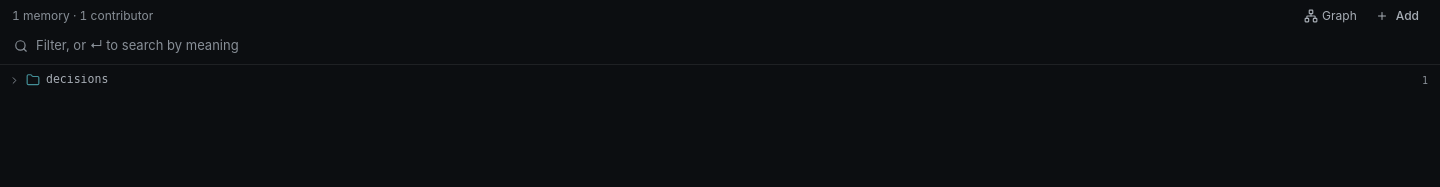
Test: <MemoryPanel /> preview hovercard › opens a preview of the memory body after the hover delay
Click the button "decisions". click: [77, 79]
box: [26,73,1416,87]
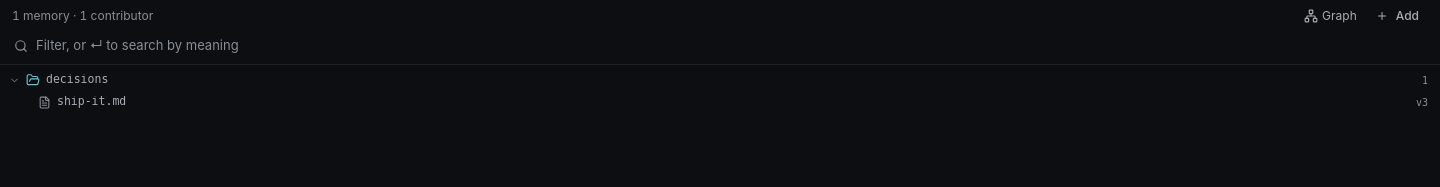
Hover over the text "ship-it.md" at [733, 102], box [38,96,1428,108]
Wait 400 ms
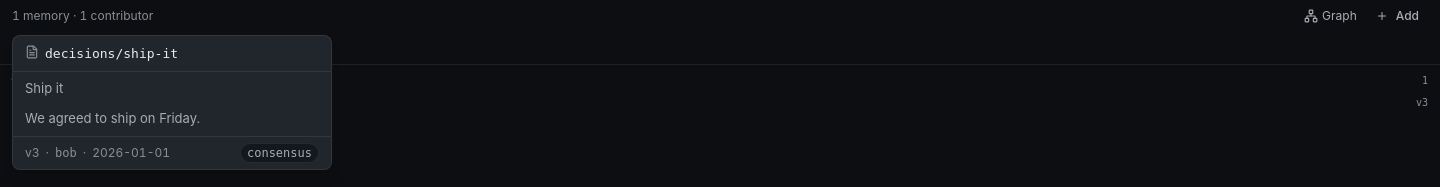
expect the tooltip with test id "memory-preview-card" shows "Ship it": met, box [25,80,63,96]
expect the tooltip with test id "memory-preview-card" shows "We agreed to ship on Friday.": met, box [25,110,200,126]
expect the tooltip with test id "memory-preview-card" shows "v3": met, box [12,34,332,170]
